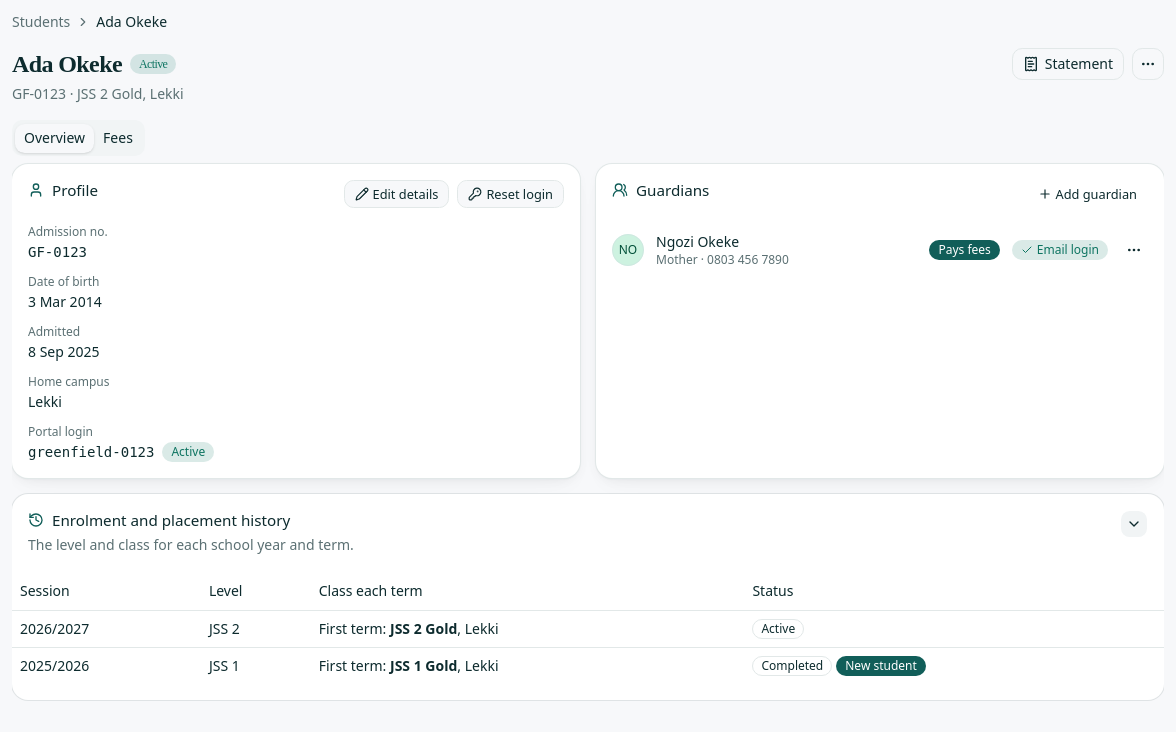
StudentPage Fees tab › shows Extra paid for a credit balance
Click the tab "Fees" at (118, 138), box [94,124,142,152]
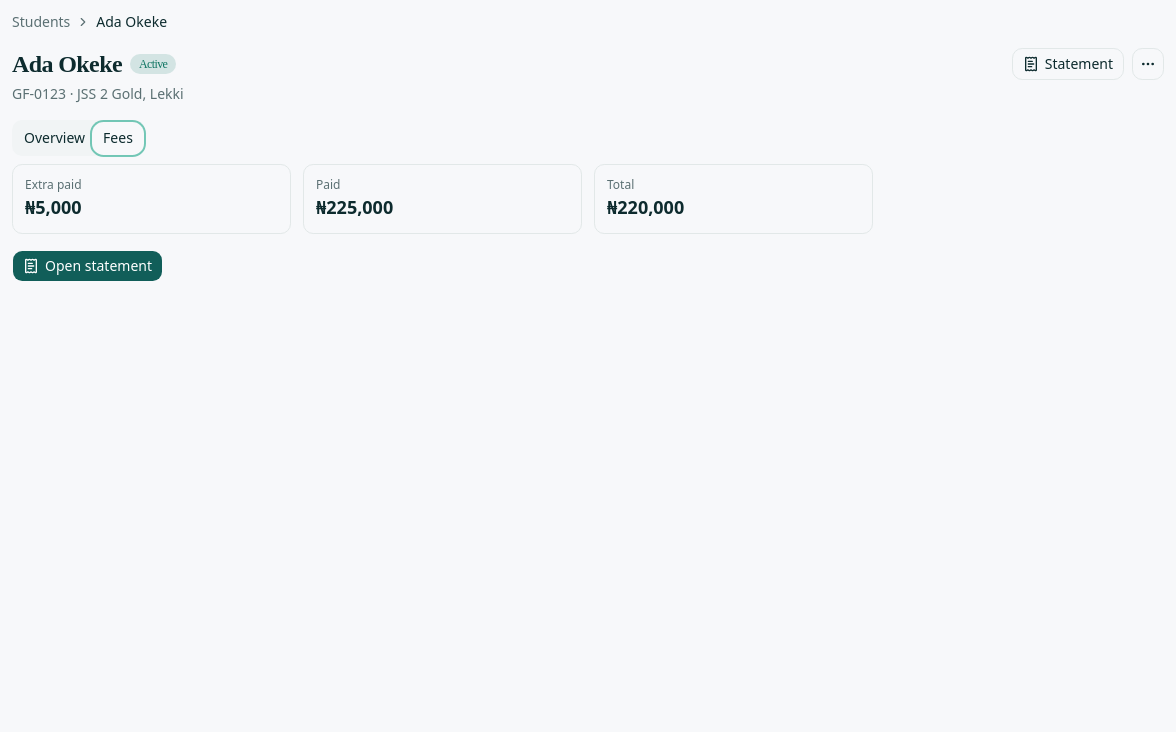
Expected: the text "Extra paid" is shown, [25,176,82,193]
Expected: the text "₦5,000" is shown, [25,195,82,219]
